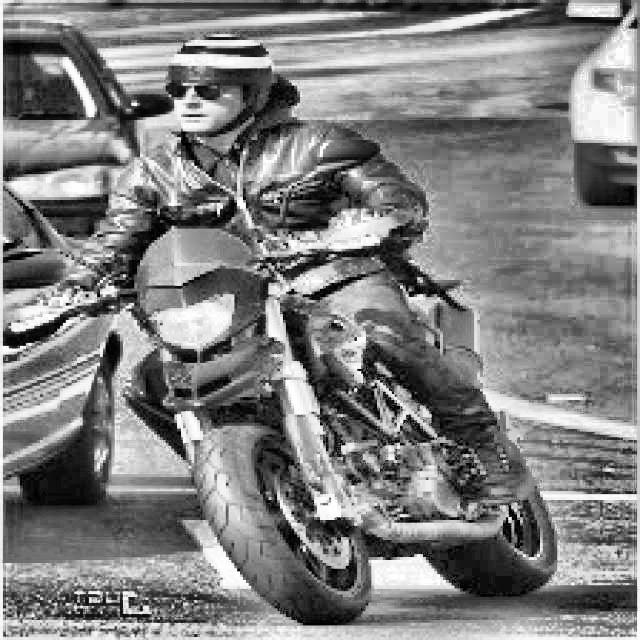motorcycle: (26, 86, 584, 601)
